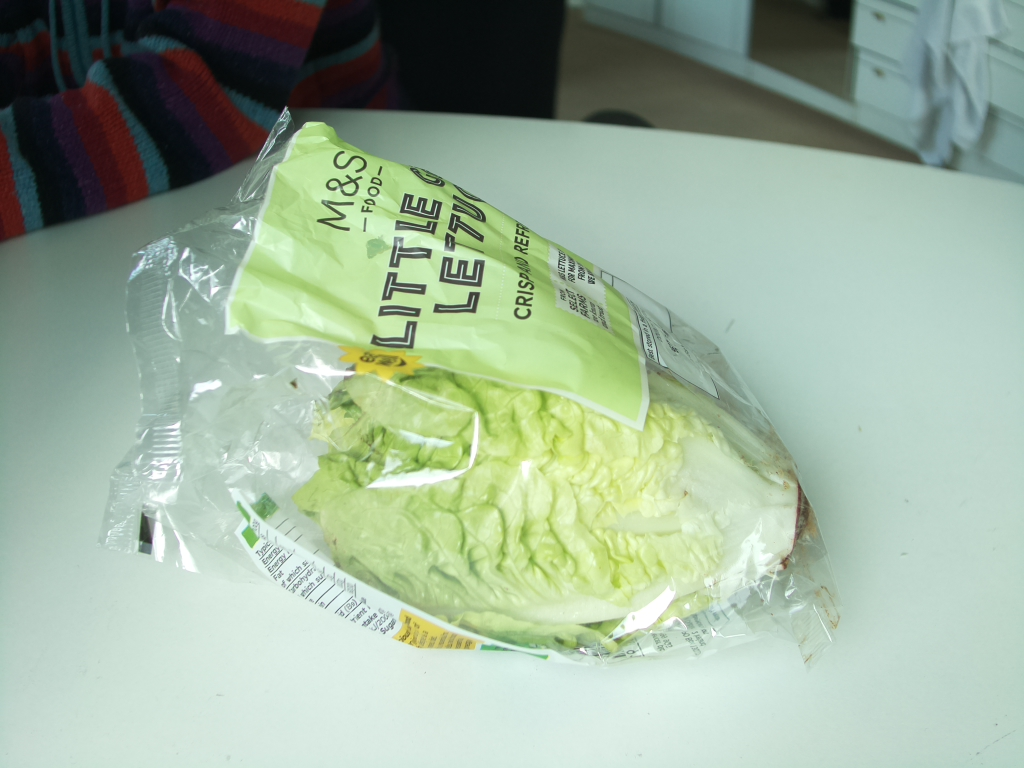salad: (268, 217, 805, 635)
